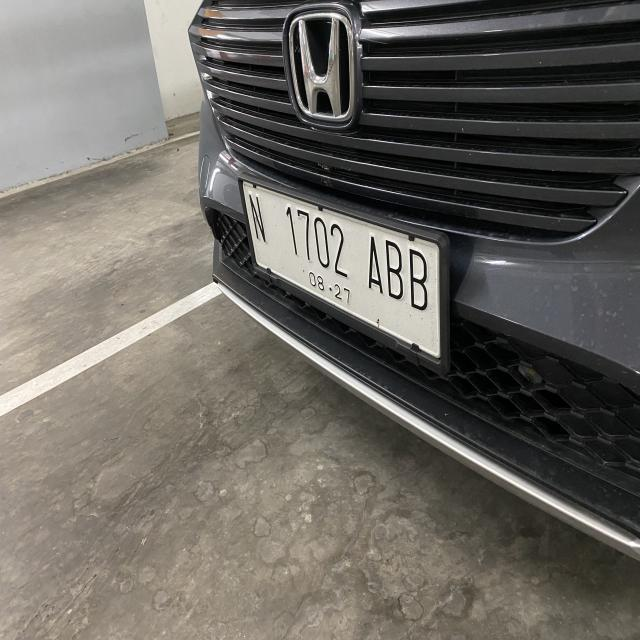0: (312, 216, 334, 268)
1: (286, 202, 297, 262)
2: (330, 219, 350, 280)
7: (298, 205, 314, 264)
A: (368, 232, 383, 294)
B: (408, 246, 432, 313), (386, 237, 405, 305)
N: (248, 190, 267, 250)
